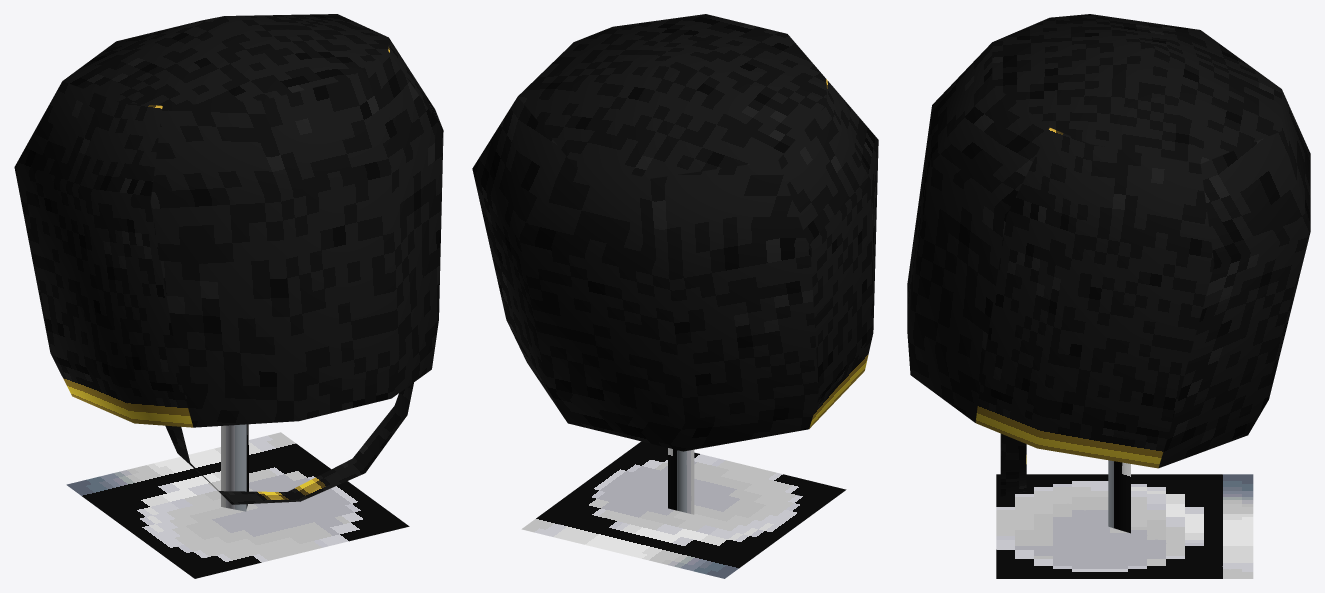
The picture shows the model from 3 angles, left to right: view 1: azimuth 30°, elevation 25°; view 2: azimuth 150°, elevation 25°; view 3: azimuth 270°, elevation 25°; orthographic projection. The views are drawn at different scales.
Visible parts, largest first — view 1: 2887head022_c; view 2: 2887head022_c; view 3: 2887head022_c.
Part boxes in pixels (x1,y1,x2,y2): 2887head022_c: (14,14,443,578); 2887head022_c: (472,14,878,578); 2887head022_c: (907,14,1310,578).
Size of the model in its own units: 0.7686 by 0.9944 by 0.7527.
2 materials, 2 textured.
